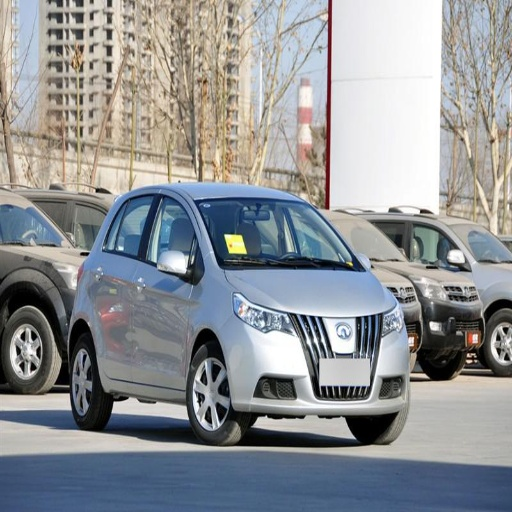front_bumper: (225, 313, 416, 416)
front_right_door: (133, 192, 202, 388)
front_right_light: (235, 295, 295, 332)
